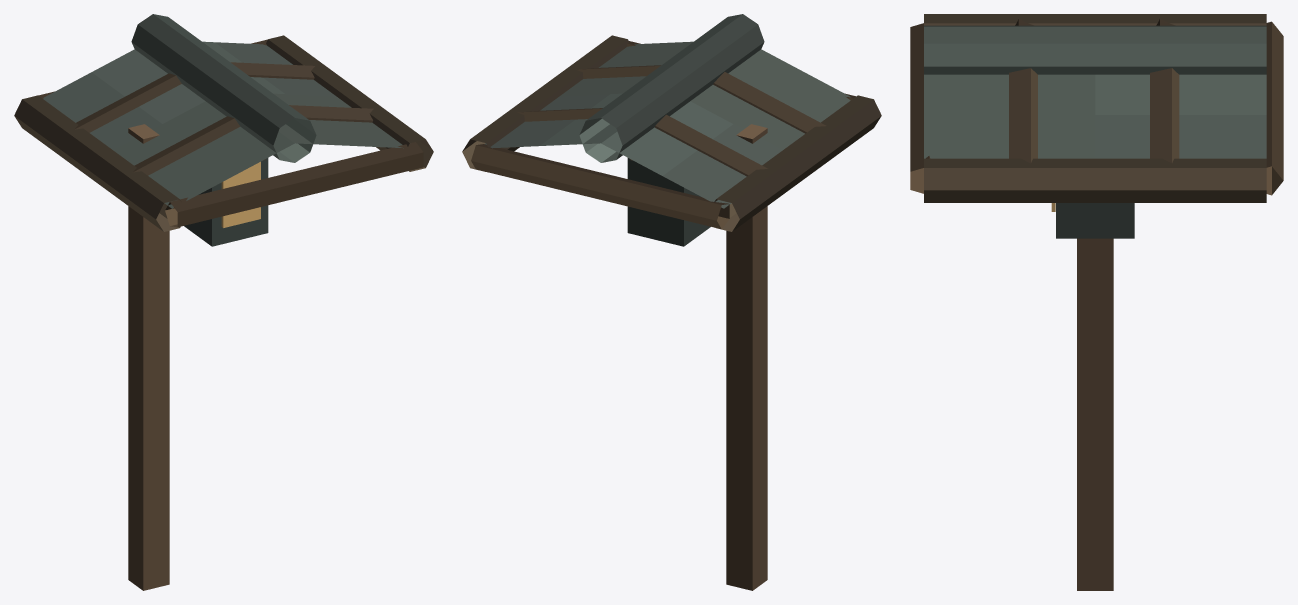
3 views of the same model, side by side, from view 1: azimuth 30°, elevation 25°; view 2: azimuth 150°, elevation 25°; view 3: azimuth 270°, elevation 25° (orthographic). The views are drawn at different scales.
Parts seen in each view (by area): view 1: 6cd334bc8c39b3e499c89966fb0c583e1621e0f281d5a03e4770e6bb2c53; view 2: 6cd334bc8c39b3e499c89966fb0c583e1621e0f281d5a03e4770e6bb2c53; view 3: 6cd334bc8c39b3e499c89966fb0c583e1621e0f281d5a03e4770e6bb2c53.
Boxes of the visible parts, x1,y1,x2,y2 form: 6cd334bc8c39b3e499c89966fb0c583e1621e0f281d5a03e4770e6bb2c53: [14, 14, 433, 590]; 6cd334bc8c39b3e499c89966fb0c583e1621e0f281d5a03e4770e6bb2c53: [462, 14, 881, 590]; 6cd334bc8c39b3e499c89966fb0c583e1621e0f281d5a03e4770e6bb2c53: [910, 14, 1283, 590].
Size of the model in its own units: 1.48 by 2.54 by 1.43.
Materials: 6 (1 with a texture image).
